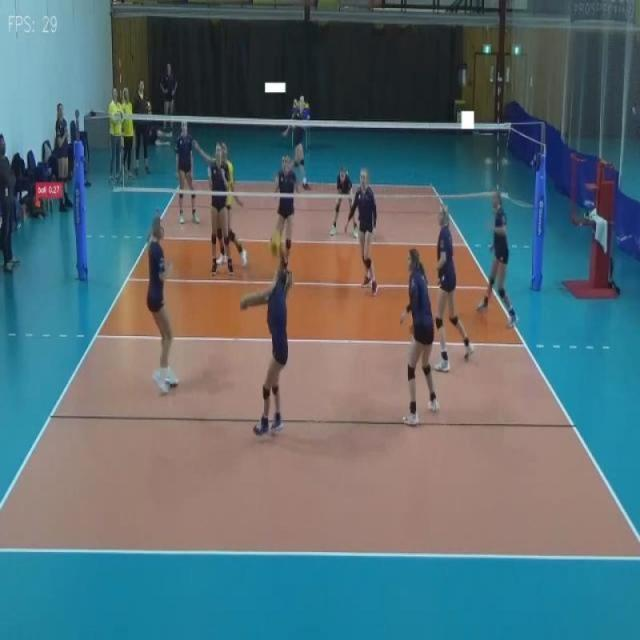volleyball: (268, 226, 282, 258), (145, 100, 152, 112), (292, 99, 298, 108), (304, 102, 310, 109)
